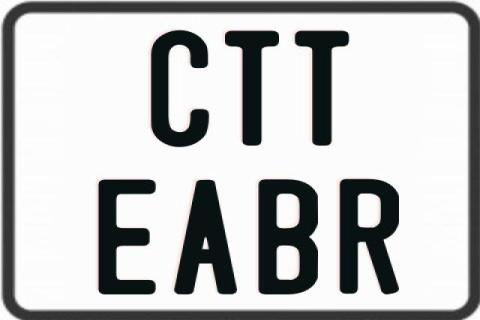A: (174, 178, 239, 294)
B: (259, 177, 320, 292)
C: (148, 30, 212, 150)
E: (98, 177, 158, 293)
R: (339, 177, 404, 295)
T: (295, 31, 353, 149), (225, 30, 282, 148)
